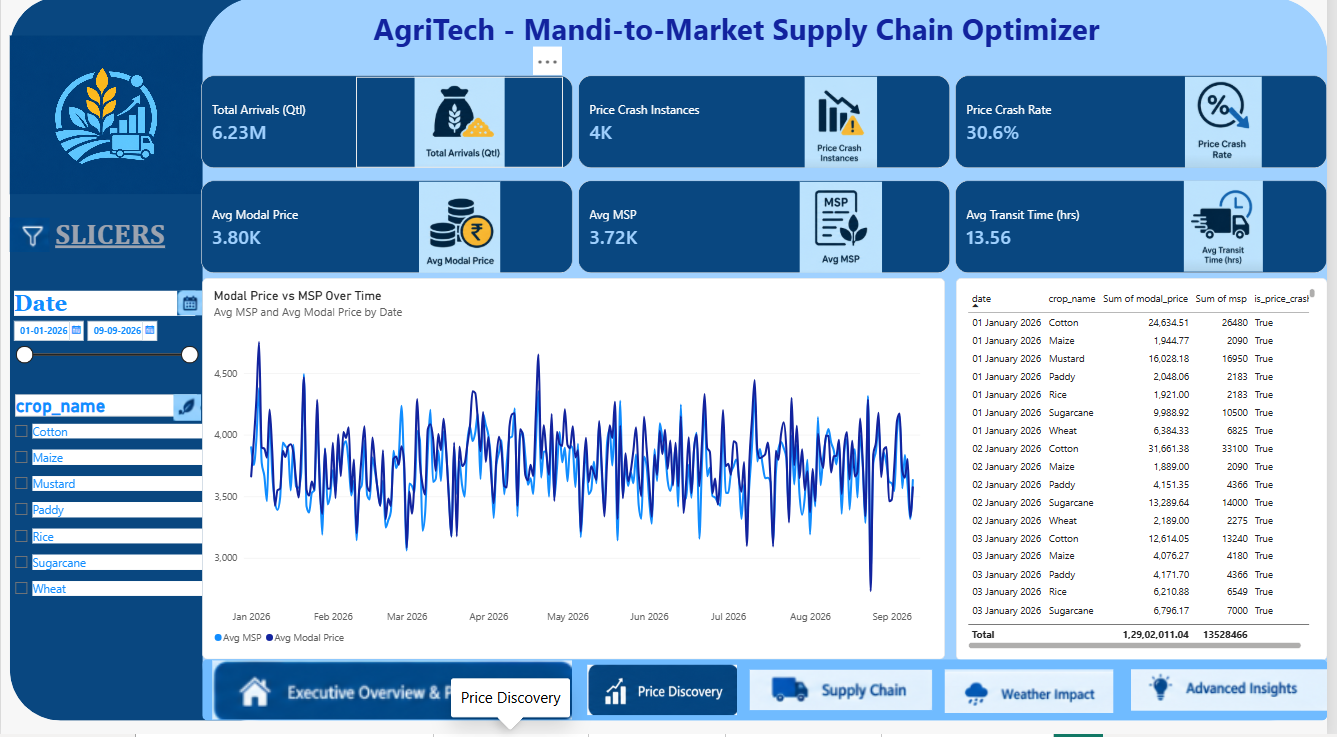

The page's visual inventory and layout, read from the dashboard file:
{"tool":"powerbi","page":{"name":"Price Discovery","canvas":[1920,1080],"ordinal":2},"visuals":[{"type":"group","id":"g1","title":"Group 2","box":[12,12,1908,1048],"z":0},{"type":"group","id":"g2","title":"Group 1","box":[12,12,1908,1048],"z":0,"group":"g1"},{"type":"shape","box":[12,12,408.3,1048],"z":0,"group":"g2"},{"type":"shape","box":[290.7,12,1629.3,1048],"z":1000,"group":"g2"},{"type":"textbox","box":[350,27.7,1430,74.6],"z":1000,"group":"g1"},{"type":"cardVisual","fields":{"Data":["dim_date.Total Arrivals (Qtl)","dim_date.Price Crash Instances","dim_date.Price Crash Rate"]},"box":[290,126,1630,134],"z":1000},{"type":"image","box":[12,69,278.7,229.7],"z":2000,"group":"g1"},{"type":"cardVisual","fields":{"Data":["dim_date.Avg Modal Price","dim_date.Avg MSP","dim_date.Avg Transit Time (hrs)"]},"box":[290,278,1630,134],"z":2000},{"type":"image","box":[514,128,300,132],"z":3000},{"type":"image","box":[1066,128,300,132],"z":4000},{"type":"image","box":[1620,128,300,132],"z":5000},{"type":"image","box":[1066,280,300,132],"z":6000},{"type":"image","box":[514,280,300,132],"z":7000},{"type":"image","box":[1620,278,300,132],"z":8000},{"type":"lineChart","title":"Modal Price vs MSP Over Time","fields":{"Category":["dim_date.Date"],"Y":["dim_date.Avg MSP","dim_date.Avg Modal Price"]},"box":[291.4,419.8,1074.9,551.9],"z":9000},{"type":"tableEx","fields":{"Values":["fact_price_msp.date","fact_price_msp.crop_name","Sum(fact_price_msp.modal_price)","Sum(fact_price_msp.msp)","fact_price_msp.is_price_crash"]},"box":[1382.5,419.8,537.5,553.8],"z":10000},{"type":"shape","box":[291.3,971.8,1628.7,88.7],"z":11000},{"type":"image","box":[305.8,971.8,521.2,88.7],"z":12000},{"type":"image","box":[848.7,971.8,217.2,88.7],"z":13000},{"type":"image","box":[1084,971.8,264.2,88.7],"z":14000},{"type":"image","box":[1366.3,973.6,244.3,88.7],"z":15000},{"type":"image","box":[1635.9,951.5,284.1,128.5],"z":16000},{"type":"slicer","fields":{"Values":["fact_price_msp.crop_name"]},"box":[12.7,588.1,278.7,383.6],"z":17000},{"type":"image","box":[117.6,588.1,304,38],"z":18000},{"type":"textbox","box":[12.7,329.4,260.6,83.2],"z":19000},{"type":"image","box":[12.7,329.4,57.9,56.1],"z":20000},{"type":"slicer","fields":{"Values":["dim_date.Date"]},"box":[10.9,437.9,278.7,300.4],"z":21000},{"type":"image","box":[123.1,437.9,300.4,36.2],"z":22000}]}

Visuals, with their boxes in screenshot pixels (x1, y1, x2, y2), scaled from the page's 1920x1080 canvas onto the 1337x737 screenshot:
"Group 2" group: (8, 8, 1336, 723)
"Group 1" group: (8, 8, 1336, 723)
shape: (8, 8, 293, 723)
shape: (202, 8, 1336, 723)
textbox: (244, 19, 1240, 70)
cardVisual - dim_date.Total Arrivals (Qtl) x dim_date.Price Crash Instances: (202, 86, 1336, 177)
image: (8, 47, 202, 204)
cardVisual - dim_date.Avg Modal Price x dim_date.Avg MSP: (202, 190, 1336, 281)
image: (358, 87, 567, 177)
image: (742, 87, 951, 177)
image: (1128, 87, 1336, 177)
image: (742, 191, 951, 281)
image: (358, 191, 567, 281)
image: (1128, 190, 1336, 280)
"Modal Price vs MSP Over Time" lineChart: (203, 286, 951, 663)
tableEx - fact_price_msp.date x fact_price_msp.crop_name: (963, 286, 1336, 664)
shape: (203, 663, 1336, 724)
image: (213, 663, 576, 724)
image: (591, 663, 742, 724)
image: (755, 663, 939, 724)
image: (951, 664, 1122, 725)
image: (1139, 649, 1336, 736)
slicer - fact_price_msp.crop_name: (9, 401, 203, 663)
image: (82, 401, 294, 427)
textbox: (9, 225, 190, 282)
image: (9, 225, 49, 263)
slicer - dim_date.Date: (8, 299, 202, 504)
image: (86, 299, 295, 324)
